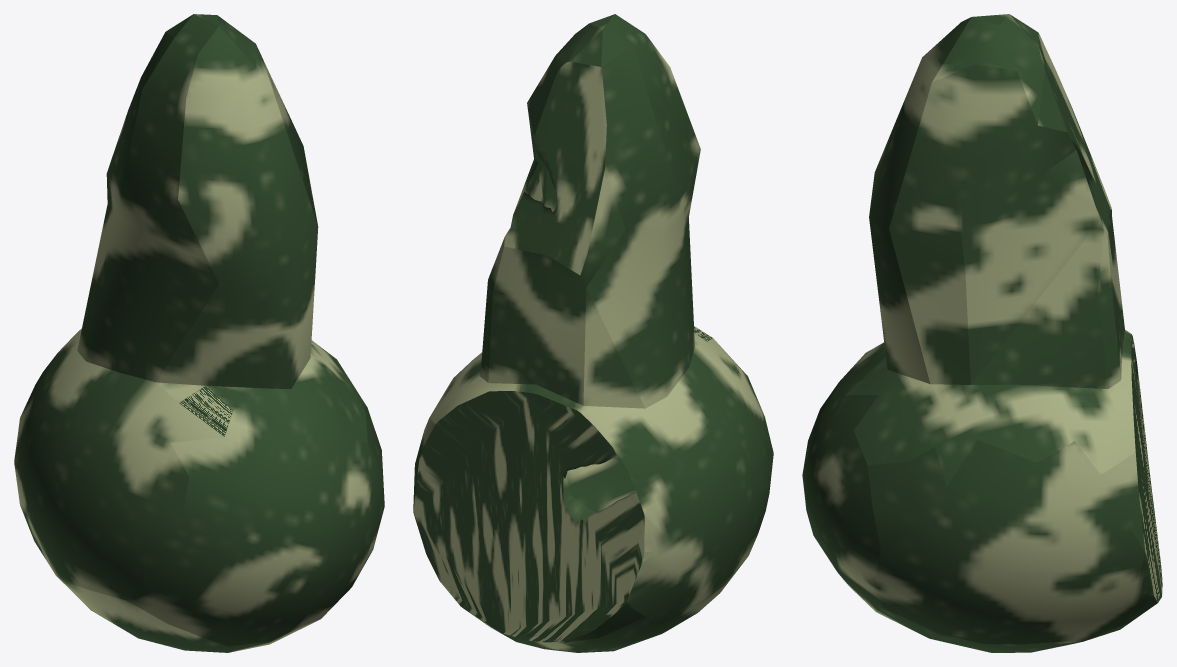
File: link_leg_0_R_0_composite.obj
3 renders of one model, left to right at view 1: azimuth 30°, elevation 25°; view 2: azimuth 150°, elevation 25°; view 3: azimuth 270°, elevation 25°, orthographic. The views are drawn at different scales.
Visible parts, largest first — view 1: link_leg_0_R_0; view 2: link_leg_0_R_0; view 3: link_leg_0_R_0.
Part boxes in pixels (bbox=[...]): link_leg_0_R_0: bbox=[14, 14, 384, 652]; link_leg_0_R_0: bbox=[413, 14, 773, 652]; link_leg_0_R_0: bbox=[802, 14, 1162, 652].
Bounding box in the file's own units: 7.33 × 14.35 × 7.58.
1 material, 1 textured.
